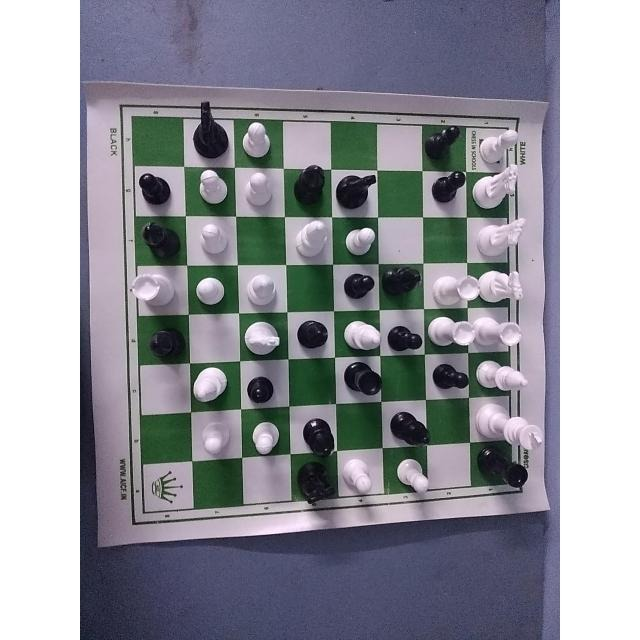black-bishop: (137, 212, 179, 262), (136, 320, 186, 360), (294, 159, 328, 216), (297, 308, 334, 360), (388, 257, 427, 305), (387, 405, 431, 447), (302, 410, 339, 456)
black-knight: (293, 454, 334, 512), (190, 99, 225, 165), (336, 171, 380, 212)
black-pawn: (135, 164, 190, 212), (389, 312, 430, 360), (428, 168, 468, 212), (423, 125, 463, 167), (342, 268, 382, 307), (431, 358, 468, 397), (247, 367, 277, 405)
black-rook: (485, 456, 535, 495), (340, 363, 388, 400)
white-bishop: (339, 307, 387, 359), (482, 353, 533, 397), (239, 265, 286, 309), (190, 363, 226, 407), (293, 222, 328, 264)
white-king: (484, 400, 540, 454)
white-knight: (483, 219, 529, 263), (490, 268, 534, 309), (475, 170, 521, 209), (243, 321, 280, 361)
white-pawn: (392, 448, 439, 508), (430, 312, 474, 356), (196, 420, 235, 464), (192, 220, 232, 261), (343, 452, 375, 502), (250, 416, 284, 460), (482, 122, 523, 157), (238, 122, 272, 162), (243, 167, 277, 206), (197, 171, 231, 209), (197, 273, 227, 314), (343, 219, 377, 253)
white-rook: (135, 263, 174, 309), (431, 271, 482, 306), (480, 312, 525, 348)
